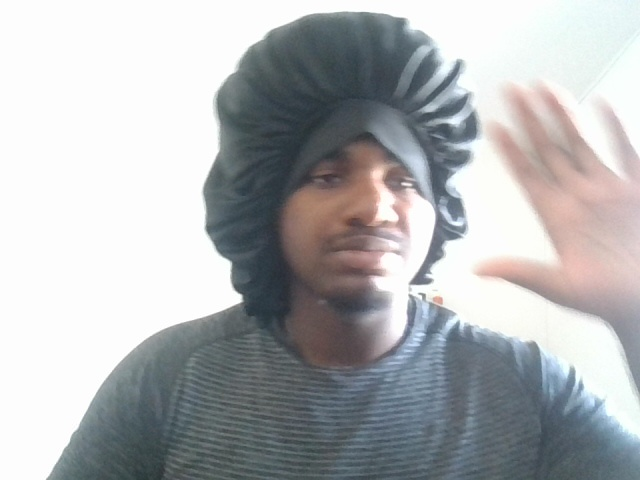Hello: (463, 65, 640, 337)
